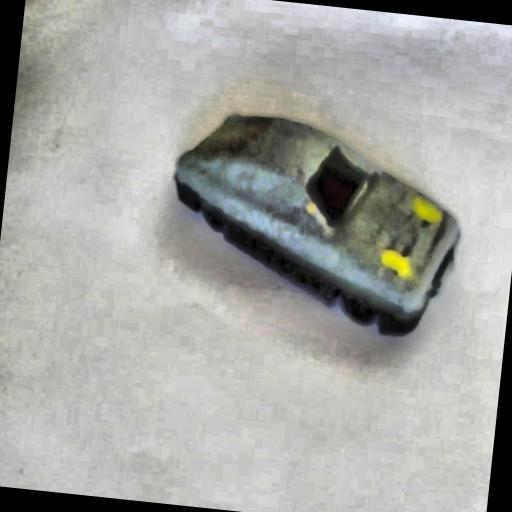normal_car: (144, 88, 484, 350)
